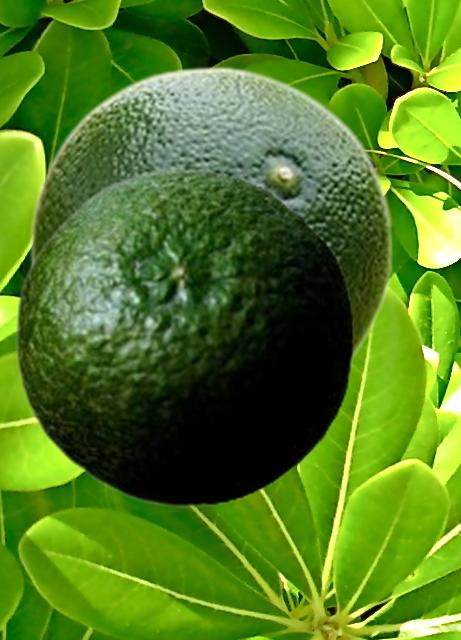calamansi: (14, 167, 353, 507), (28, 65, 394, 367)
